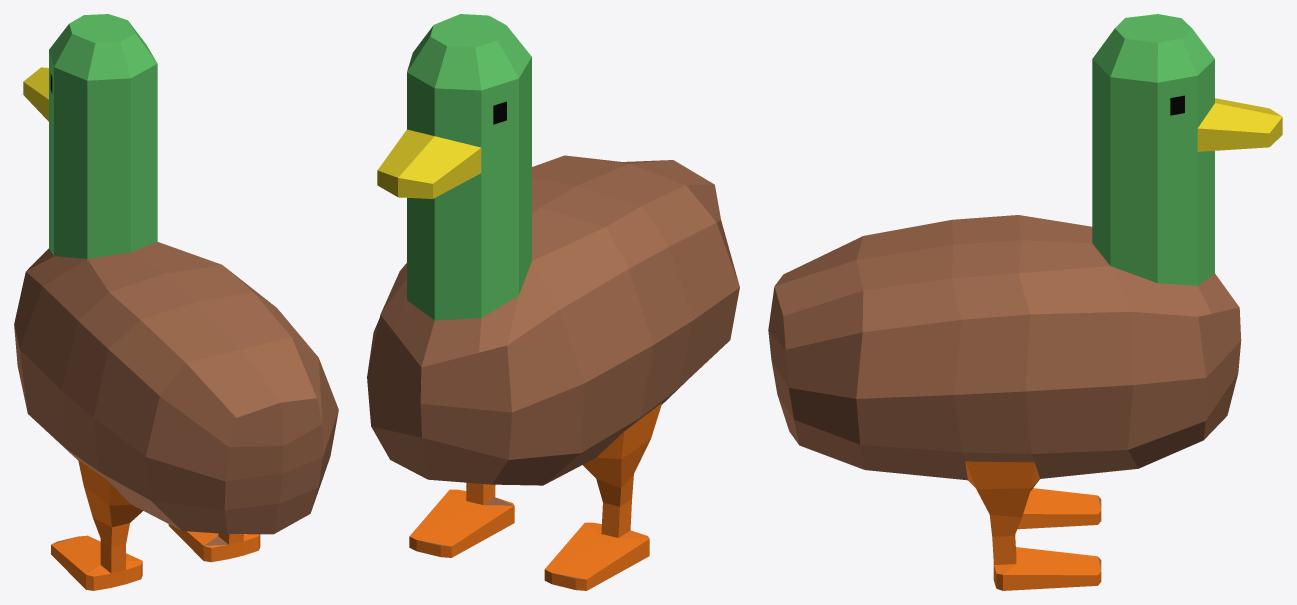
File: Player.glb
3 renders of one model, left to right at view 1: azimuth 30°, elevation 25°; view 2: azimuth 150°, elevation 25°; view 3: azimuth 270°, elevation 25°, orthographic. The views are drawn at different scales.
Parts seen in each view (by area): view 1: DuckBody, DuckHead, DuckLegs, DuckBeak; view 2: DuckBody, DuckHead, DuckLegs, DuckBeak; view 3: DuckBody, DuckHead, DuckLegs, DuckBeak.
Boxes of the visible parts, <box> form: DuckBody: <box>14,242,338,545</box>; DuckHead: <box>49,14,157,258</box>; DuckLegs: <box>51,459,260,590</box>; DuckBeak: <box>23,67,48,121</box>; DuckBody: <box>367,155,739,579</box>; DuckHead: <box>407,14,531,320</box>; DuckLegs: <box>409,403,661,590</box>; DuckBeak: <box>377,129,481,198</box>; DuckBody: <box>768,215,1241,569</box>; DuckHead: <box>1092,14,1214,285</box>; DuckLegs: <box>965,461,1101,590</box>; DuckBeak: <box>1197,98,1282,151</box>.
Bounding box in the file's own units: 1.26 × 2.87 × 2.59.
5 materials, 5 textured.
